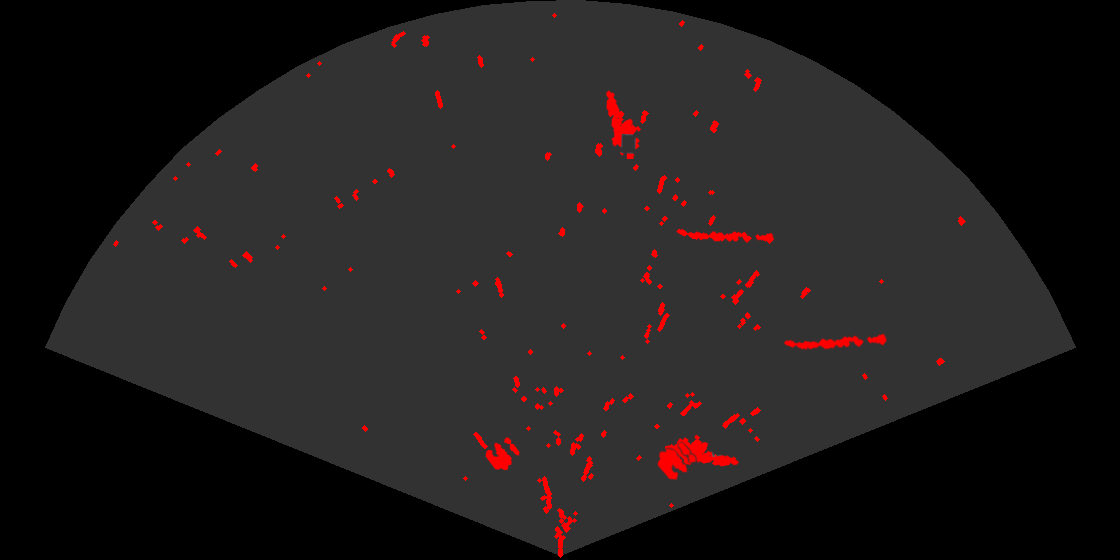ball: (656, 441, 698, 482), (484, 436, 521, 472)
chain: (782, 332, 888, 352), (675, 227, 775, 246)
frogman: (605, 89, 643, 159), (665, 433, 740, 468)
